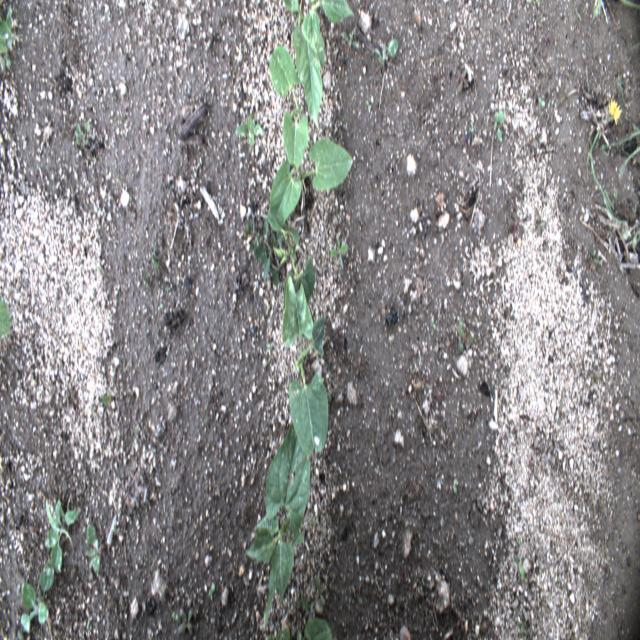crop: (245, 424, 310, 628), (282, 270, 330, 461), (283, 0, 353, 130), (267, 135, 353, 235), (268, 43, 309, 166), (0, 2, 14, 70), (298, 614, 333, 640), (0, 294, 14, 342)
weed: (239, 214, 314, 300), (590, 101, 640, 224), (19, 554, 55, 638), (44, 496, 80, 576), (234, 113, 266, 145), (86, 522, 101, 576), (73, 120, 96, 155), (373, 36, 400, 64), (458, 317, 476, 353), (332, 232, 349, 268), (506, 210, 524, 244), (176, 606, 194, 637), (493, 107, 507, 144), (533, 202, 545, 238), (264, 626, 290, 639), (515, 552, 526, 582), (150, 244, 161, 270), (302, 595, 316, 614), (588, 248, 602, 267), (343, 31, 359, 47), (208, 582, 216, 604), (452, 476, 458, 496), (631, 232, 638, 248), (537, 98, 546, 109), (431, 316, 437, 332), (171, 610, 180, 620), (310, 514, 317, 526), (157, 300, 164, 312), (469, 120, 475, 134), (365, 97, 371, 111), (617, 74, 623, 88), (267, 341, 274, 349)
